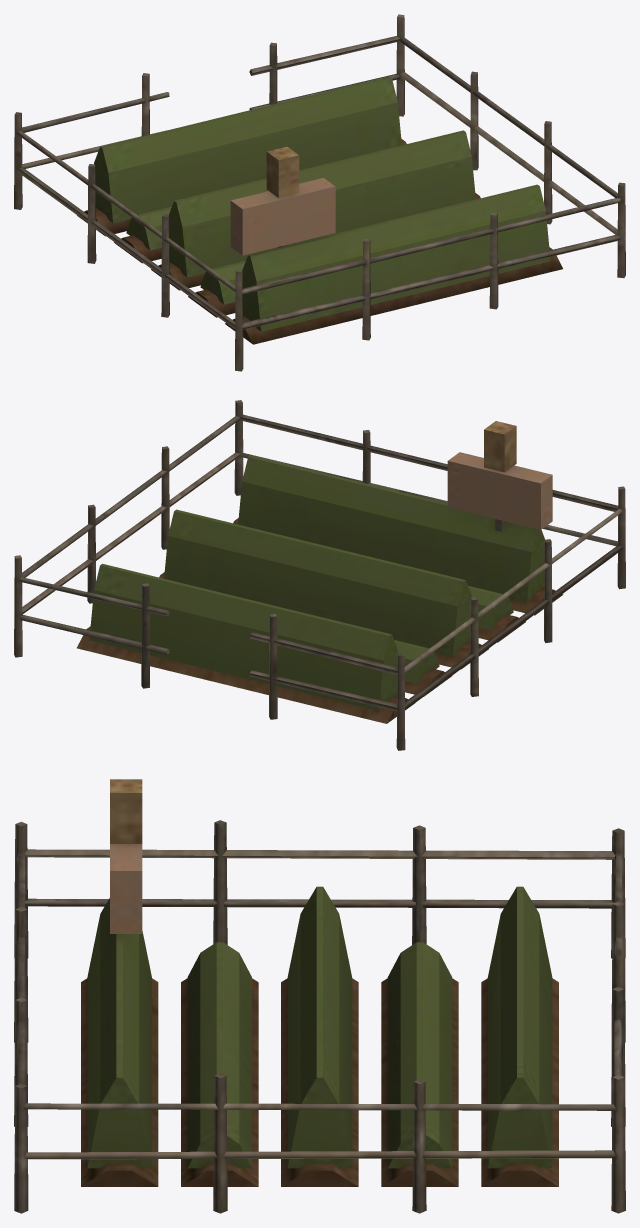
The model's file is b_field_far.glb.
3 renders of one model, top to bottom at view 1: azimuth 30°, elevation 25°; view 2: azimuth 150°, elevation 25°; view 3: azimuth 270°, elevation 25°, orthographic. The views are drawn at different scales.
Visible parts, largest first — view 1: b_field_far; view 2: b_field_far; view 3: b_field_far.
Part boxes in pixels (<box>): b_field_far: <box>14,14,625,371</box>; b_field_far: <box>14,400,625,750</box>; b_field_far: <box>14,779,625,1213</box>.
Bounding box in the file's own units: 3.79 × 1.55 × 3.79.
Materials: 1 (1 with a texture image).
